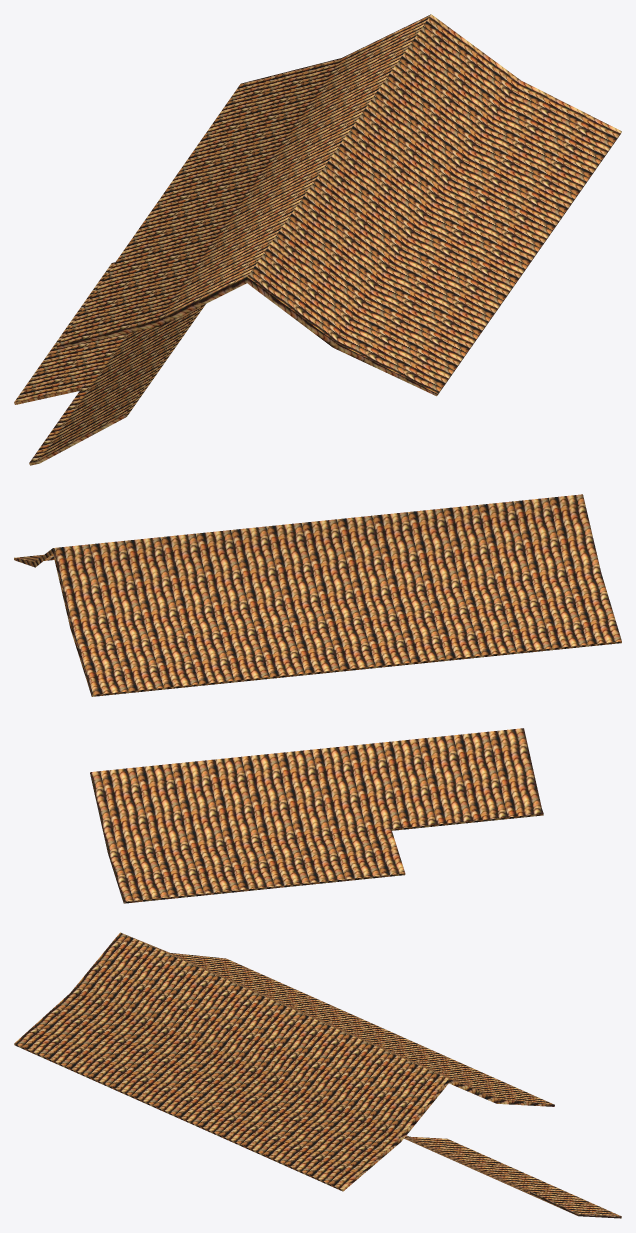
File: Telhado_capela.fbx
3 views of the same model, one above another, from view 1: azimuth 30°, elevation 25°; view 2: azimuth 150°, elevation 25°; view 3: azimuth 270°, elevation 25° (orthographic). The views are drawn at different scales.
Parts seen in each view (by area): view 1: Telhado_capela; view 2: Telhado_capela; view 3: Telhado_capela.
Boxes of the visible parts, <box> form: Telhado_capela: <box>14,14,621,465</box>; Telhado_capela: <box>14,494,621,903</box>; Telhado_capela: <box>14,932,621,1218</box>.
Bounding box in the file's own units: 2525 × 1079 × 2802.
Materials: 1 (1 with a texture image).
